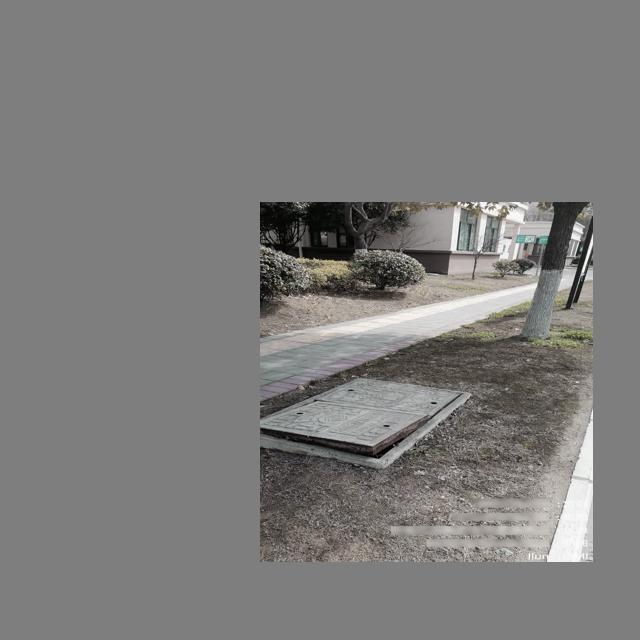uncovered: (260, 377, 473, 467)
